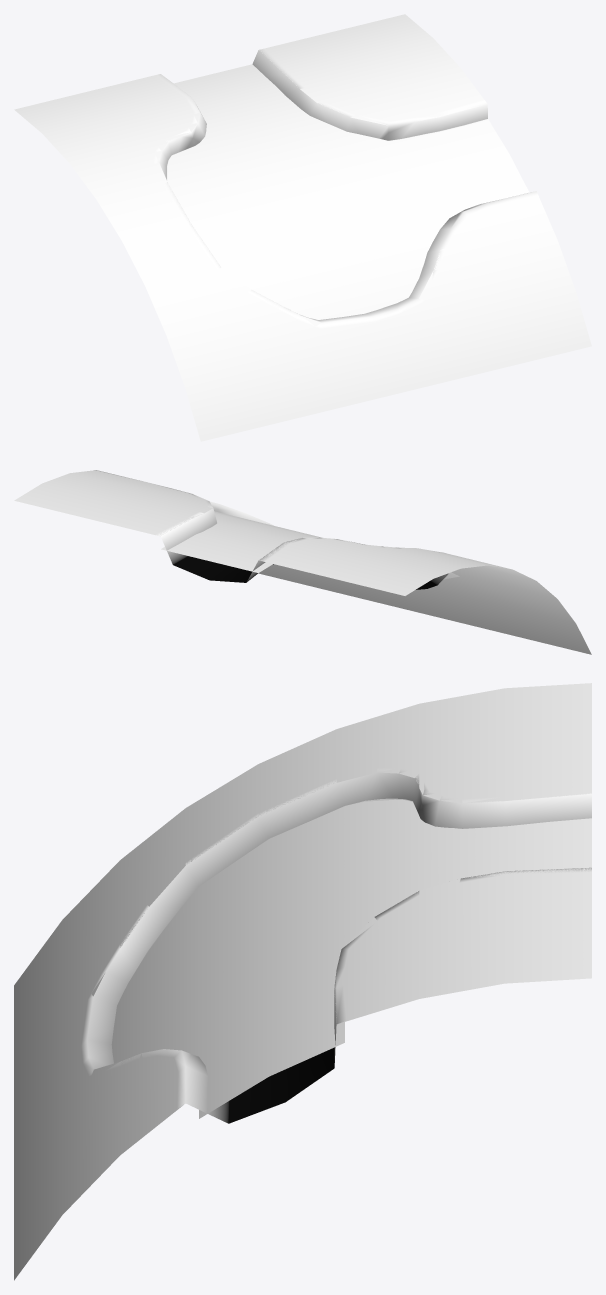
The model's file is grd_Rse_P_0.dae.
3 views of the same model, one above another, from view 1: azimuth 30°, elevation 25°; view 2: azimuth 150°, elevation 25°; view 3: azimuth 270°, elevation 25° (orthographic). The views are drawn at different scales.
Parts seen in each view (by area): view 1: grass_1_0, river_2_0, cliff_river_0_0, river_edge_3_0; view 2: grass_1_0, river_2_0, cliff_river_0_0; view 3: grass_1_0, river_2_0, cliff_river_0_0, river_edge_3_0.
Part boxes in pixels (x1,y1,x2,y2): grass_1_0: (14, 14, 591, 441); river_2_0: (167, 64, 528, 319); cliff_river_0_0: (153, 48, 538, 328); river_edge_3_0: (167, 74, 529, 319); grass_1_0: (14, 470, 591, 654); river_2_0: (161, 511, 459, 579); cliff_river_0_0: (94, 470, 448, 589); grass_1_0: (14, 683, 591, 1280); river_2_0: (111, 800, 591, 1118); cliff_river_0_0: (81, 768, 591, 1123); river_edge_3_0: (115, 798, 591, 1118).
Size of the model in its own units: 512 by 244 by 423.
Materials: 4 (1 with a texture image).
